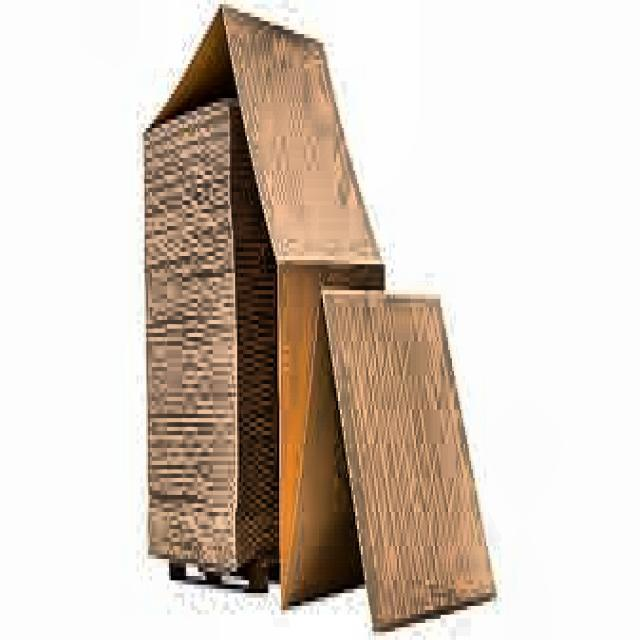cardboard: (140, 0, 384, 602), (319, 282, 496, 632)
